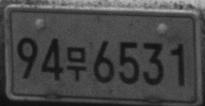1: (168, 42, 190, 87)
3: (141, 41, 165, 85)
4: (39, 37, 64, 81)
5: (117, 41, 140, 84)
6: (92, 40, 115, 83)
9: (16, 36, 38, 79)
무: (66, 46, 87, 81)
